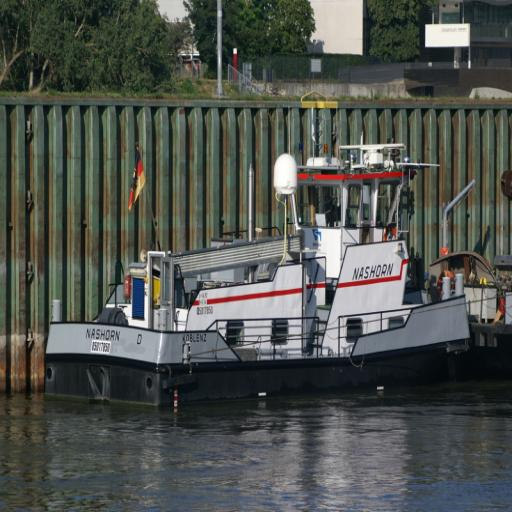tugboat: (42, 130, 477, 421)
